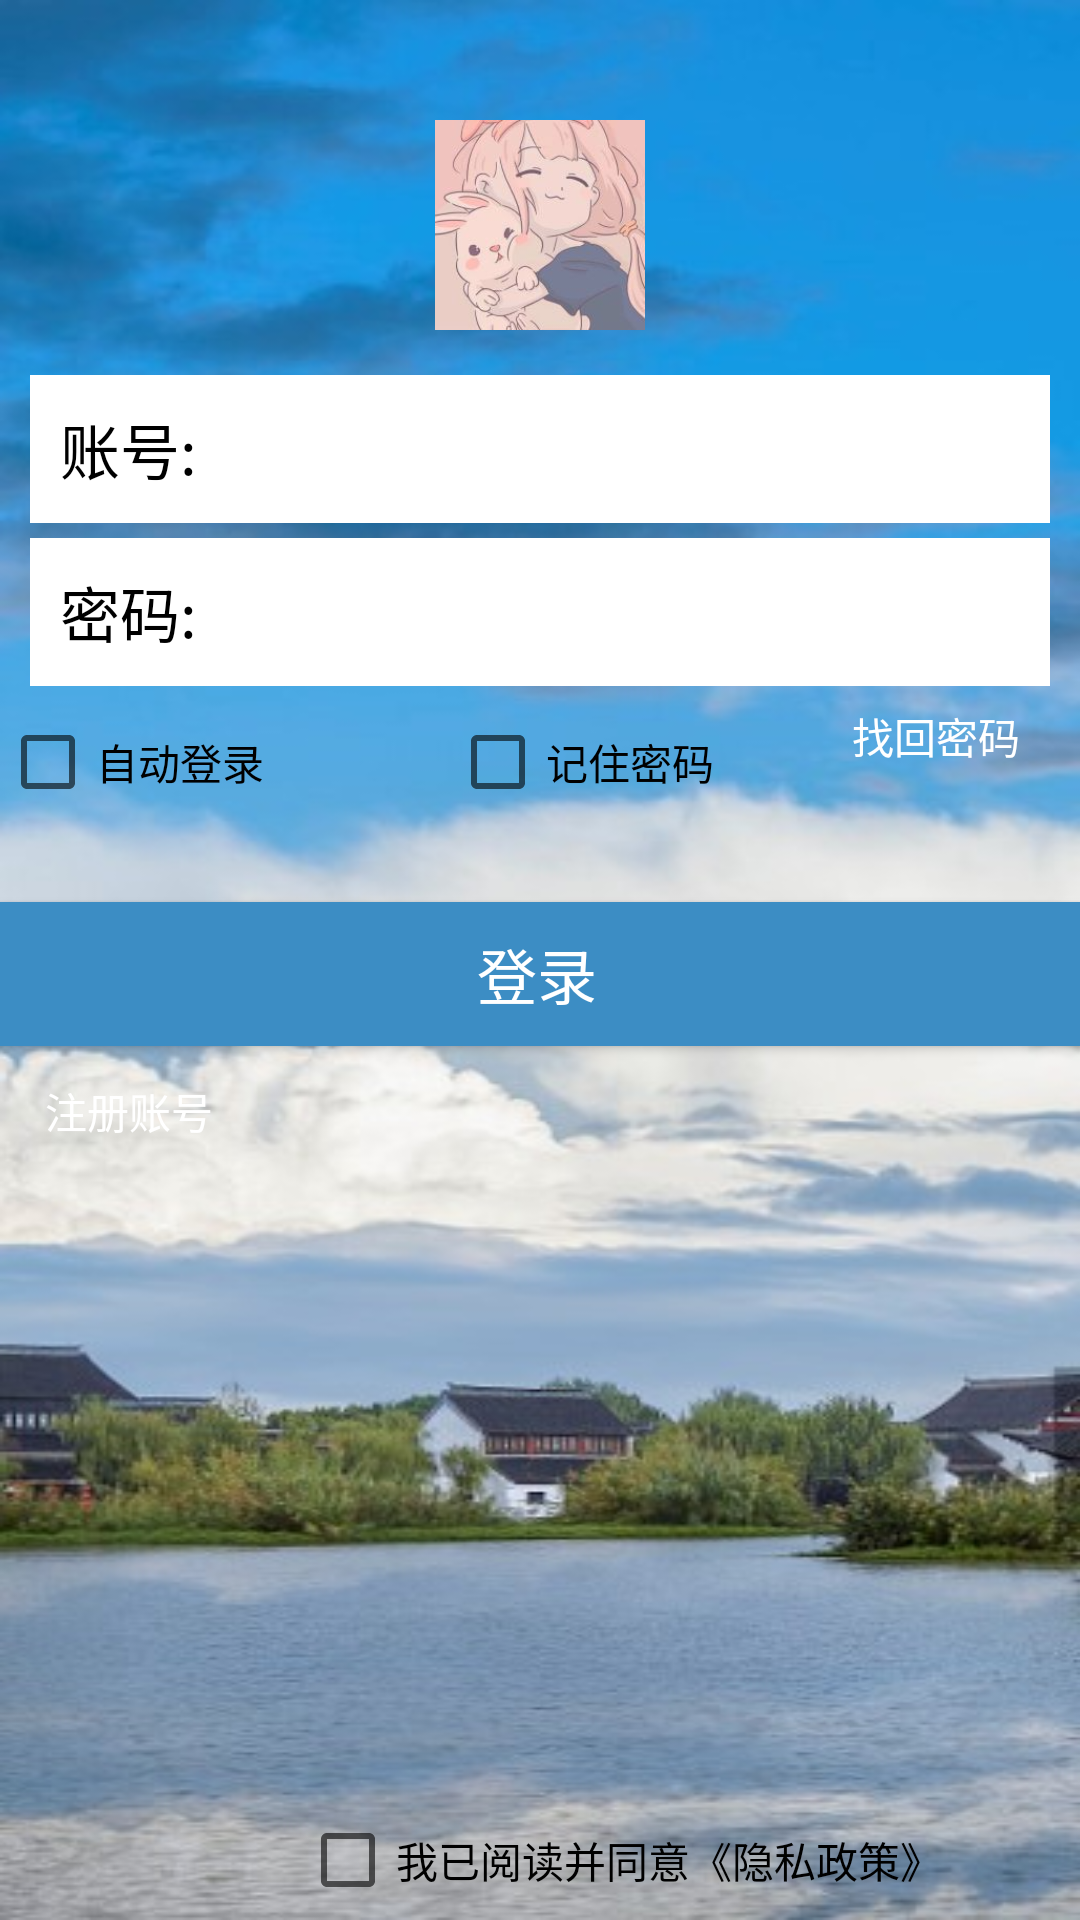

Locate icon controls on the screen. Image size 1080*1920, boxes as (x1, y1, x2, y2).
myheader: (435, 120, 645, 330)
